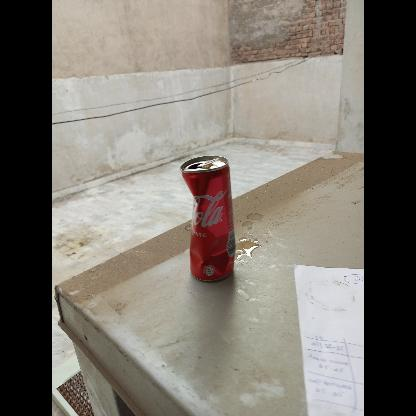Dent_Can: (183, 171, 236, 280)
Lid_Open: (180, 154, 214, 172)
Tin_Can: (172, 150, 232, 282)
